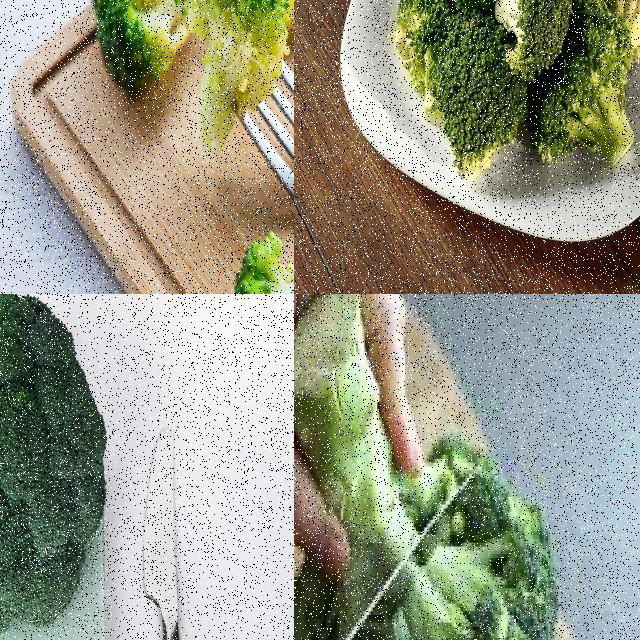broccoli: (294, 294, 561, 639), (0, 294, 114, 639), (175, 0, 289, 153), (537, 5, 639, 174), (79, 0, 221, 69), (394, 0, 526, 48)
